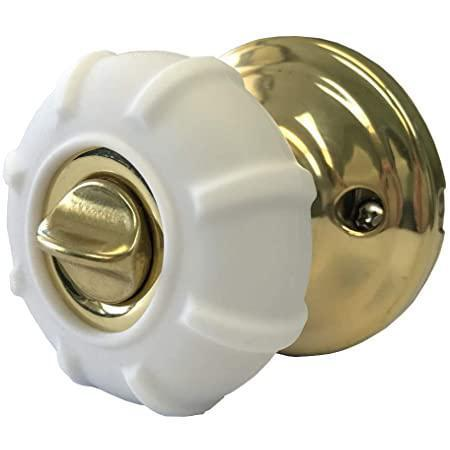doorhandle: (5, 32, 436, 431)
